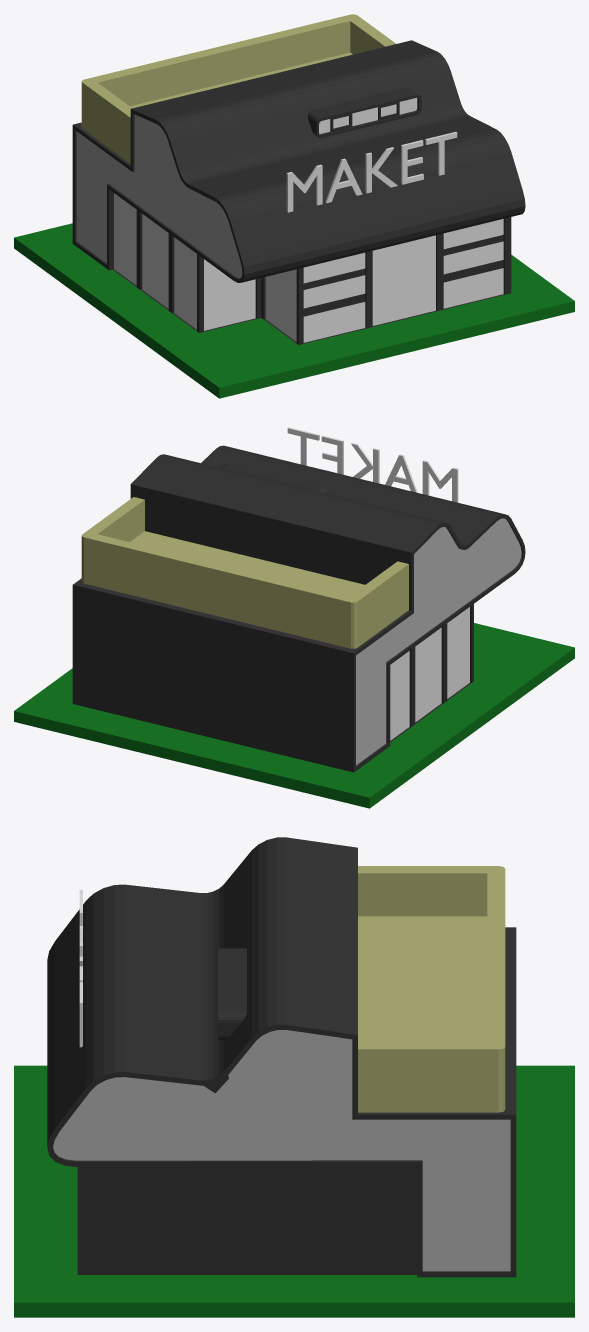
The model's file is maket.fbx.
3 renders of one model, top to bottom at view 1: azimuth 30°, elevation 25°; view 2: azimuth 150°, elevation 25°; view 3: azimuth 270°, elevation 25°, orthographic. The views are drawn at different scales.
Visible parts, largest first — view 1: Cube, Text; view 2: Cube, Text; view 3: Cube, Text.
Part boxes in pixels (x1,y1,x2,y2): Cube: (14, 14, 574, 398); Text: (286, 132, 457, 212); Cube: (14, 445, 574, 808); Text: (287, 427, 458, 502); Cube: (14, 837, 574, 1317); Text: (79, 890, 82, 1047).
Size of the model in its own units: 200 by 105 by 200.
